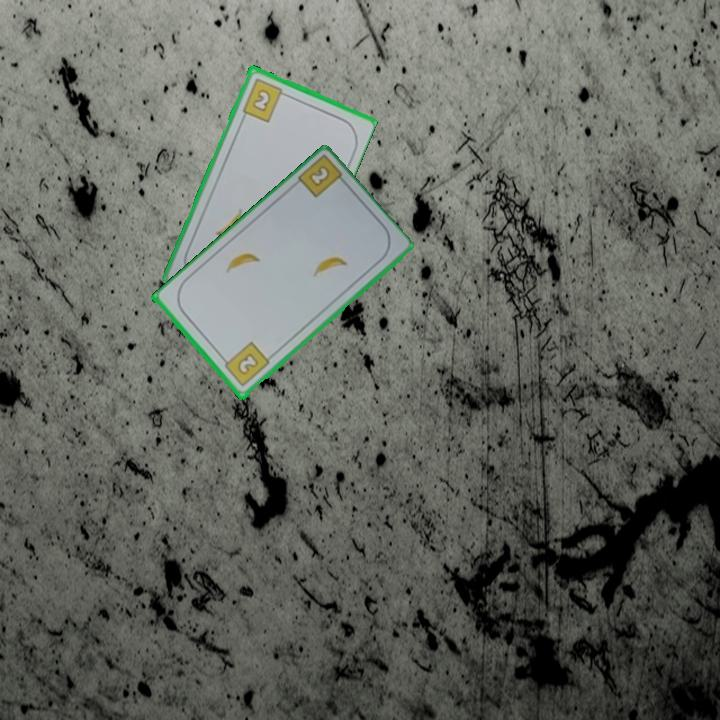2b: (218, 339, 272, 390), (239, 74, 290, 124), (305, 162, 333, 190)
